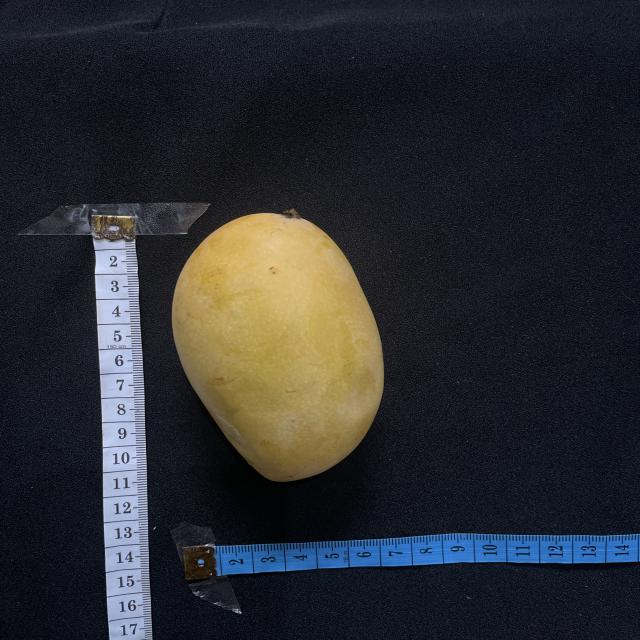Ripe: (172, 213, 384, 481)
